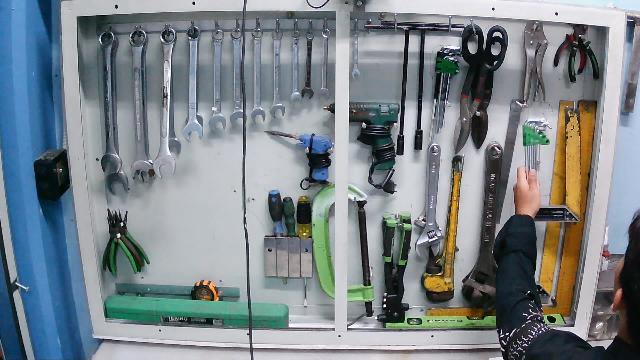kunci_l_bintang: (519, 115, 554, 190)
